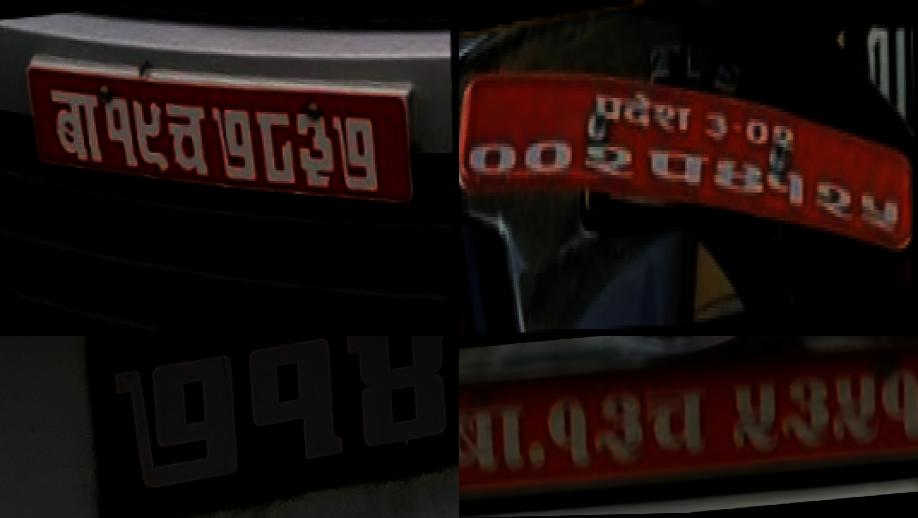0: (521, 116, 577, 192), (470, 127, 520, 192), (744, 116, 768, 152)
1: (238, 336, 356, 482), (533, 392, 598, 475), (870, 355, 918, 448), (100, 86, 143, 176), (766, 156, 808, 223)
2: (580, 134, 639, 202), (814, 171, 859, 236), (772, 123, 797, 158)
3: (776, 368, 841, 459), (588, 386, 653, 473), (293, 106, 342, 196), (704, 111, 728, 147)
4: (338, 336, 459, 460), (712, 150, 768, 215)
5: (720, 373, 785, 465), (827, 361, 878, 448), (859, 180, 904, 248)
7: (102, 347, 255, 499), (327, 111, 390, 200), (208, 97, 262, 192)
8: (252, 103, 304, 195)
9: (127, 89, 174, 178)
ba: (45, 80, 109, 174), (459, 395, 534, 475)
cha: (641, 380, 716, 463), (164, 91, 216, 185)
pa: (645, 131, 711, 207)
